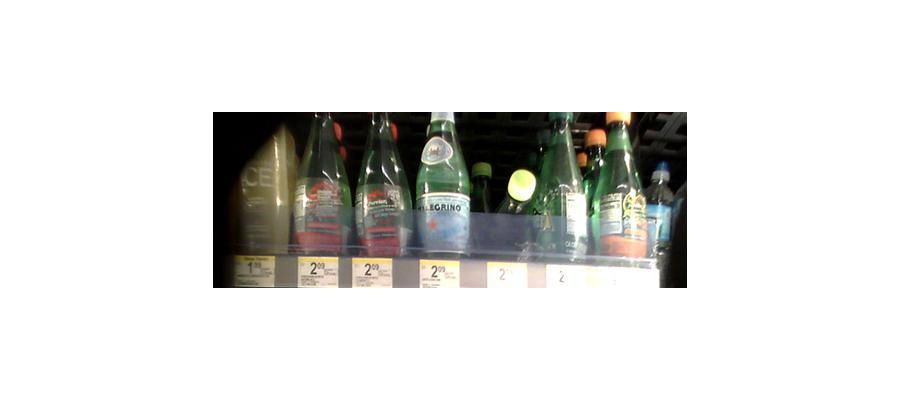bottle: (590, 107, 648, 264), (533, 110, 590, 264), (414, 104, 469, 259), (354, 108, 410, 260), (296, 108, 351, 257), (234, 114, 291, 255), (471, 154, 535, 262)
